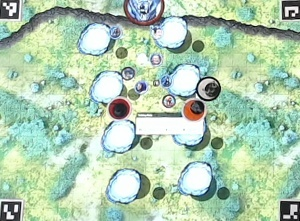orange: (183, 99, 206, 122)
red: (108, 97, 131, 119)
white: (197, 76, 219, 99)
